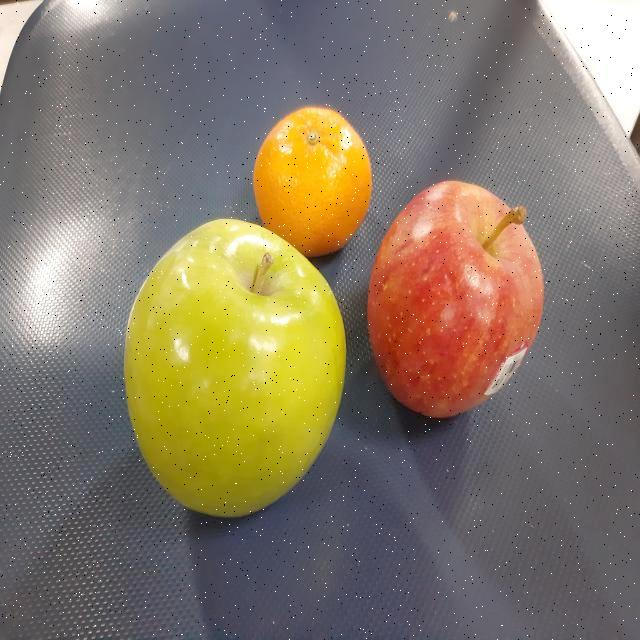Apel Gala: (366, 172, 550, 424)
Apel Granny Smith: (120, 215, 350, 517)
Jeruk Mandarin: (251, 99, 374, 262)
